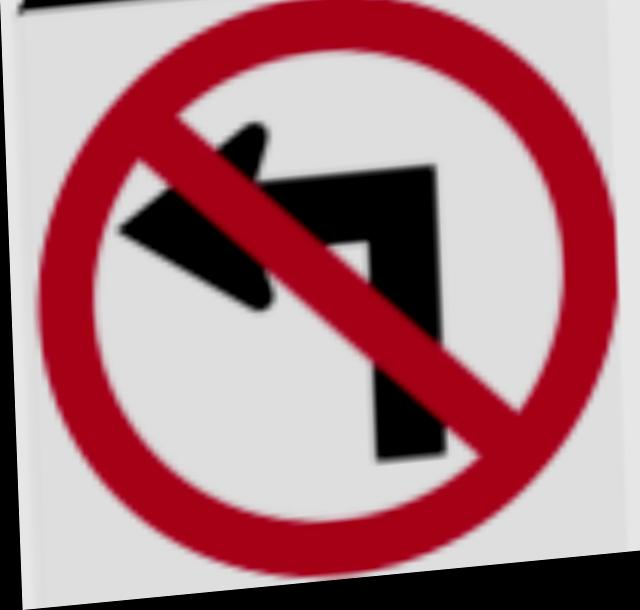not_turn_left: (37, 0, 627, 600)
